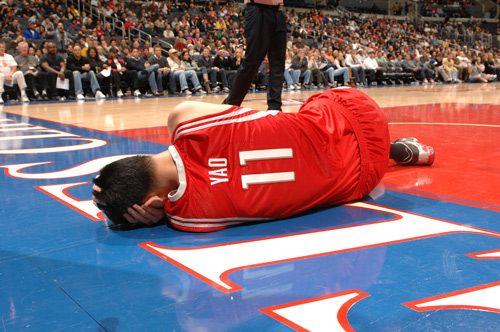10+: (1, 1, 500, 230)
down: (91, 89, 447, 230)
